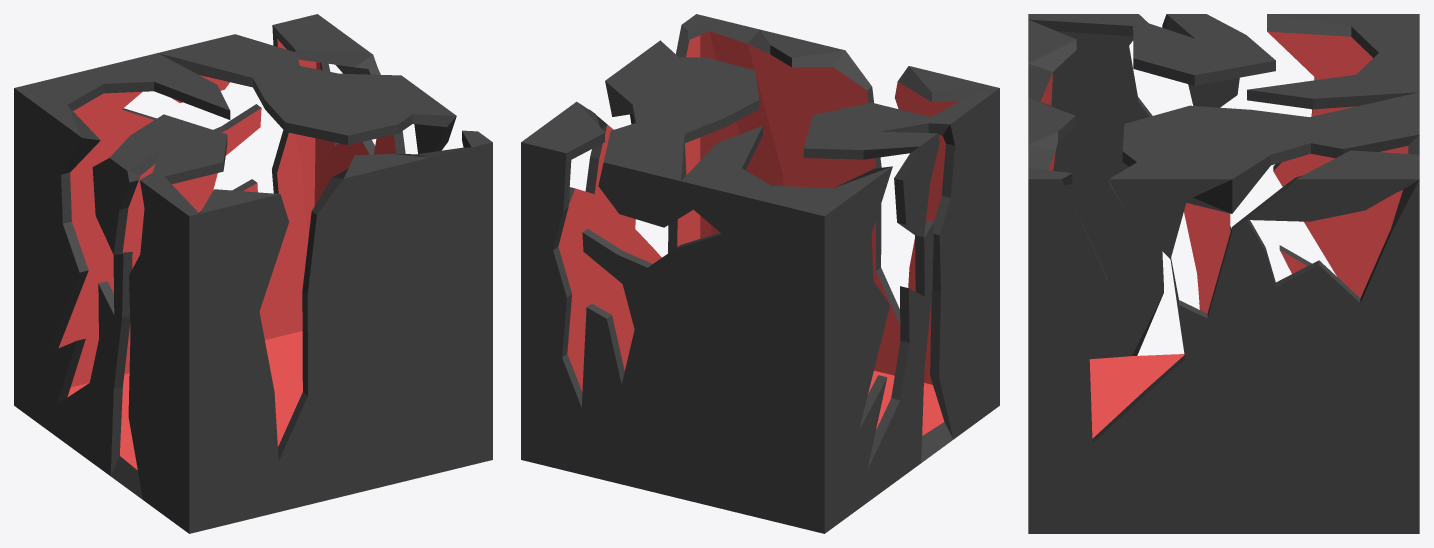
File: RedCrack2.fbx
The picture shows the model from 3 angles, left to right: view 1: azimuth 30°, elevation 25°; view 2: azimuth 150°, elevation 25°; view 3: azimuth 270°, elevation 25°; orthographic projection. The views are drawn at different scales.
Visible parts, largest first — view 1: Red_Crack2; view 2: Red_Crack2; view 3: Red_Crack2.
Boxes of the visible parts, box(x1,y1,x2,y2) form: Red_Crack2: box(14, 14, 492, 533); Red_Crack2: box(521, 14, 999, 533); Red_Crack2: box(1028, 14, 1419, 533).
Bounding box in the file's own units: 200 × 200 × 200.
